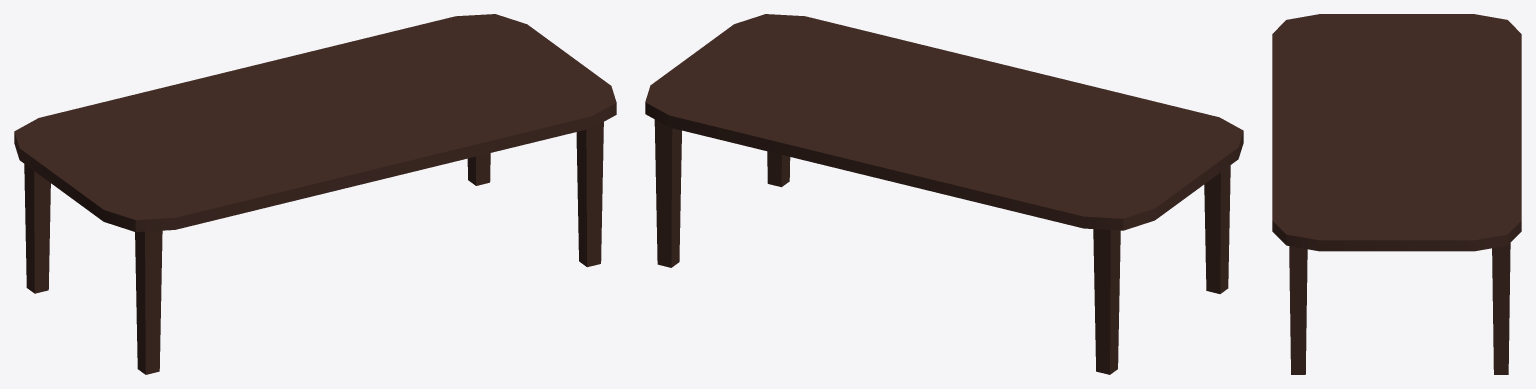
File: mesa.fbx
The picture shows the model from 3 angles, left to right: view 1: azimuth 30°, elevation 25°; view 2: azimuth 150°, elevation 25°; view 3: azimuth 270°, elevation 25°; orthographic projection. The views are drawn at different scales.
Visible parts, largest first — view 1: mesa; view 2: mesa; view 3: mesa.
Boxes of the visible parts, <box> form: mesa: <box>14,14,616,374</box>; mesa: <box>645,14,1243,374</box>; mesa: <box>1272,14,1521,374</box>.
Size of the model in its own units: 4.58 by 1.38 by 2.13.
